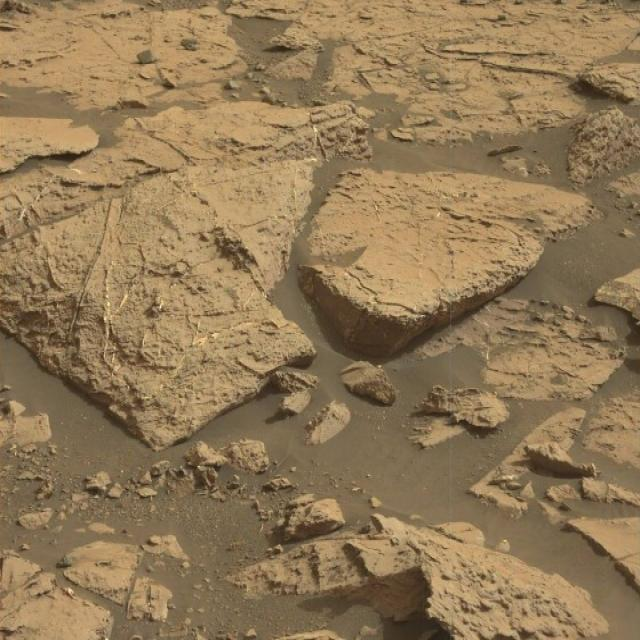rock: (521, 440, 599, 480), (272, 495, 345, 536), (339, 359, 402, 405)
